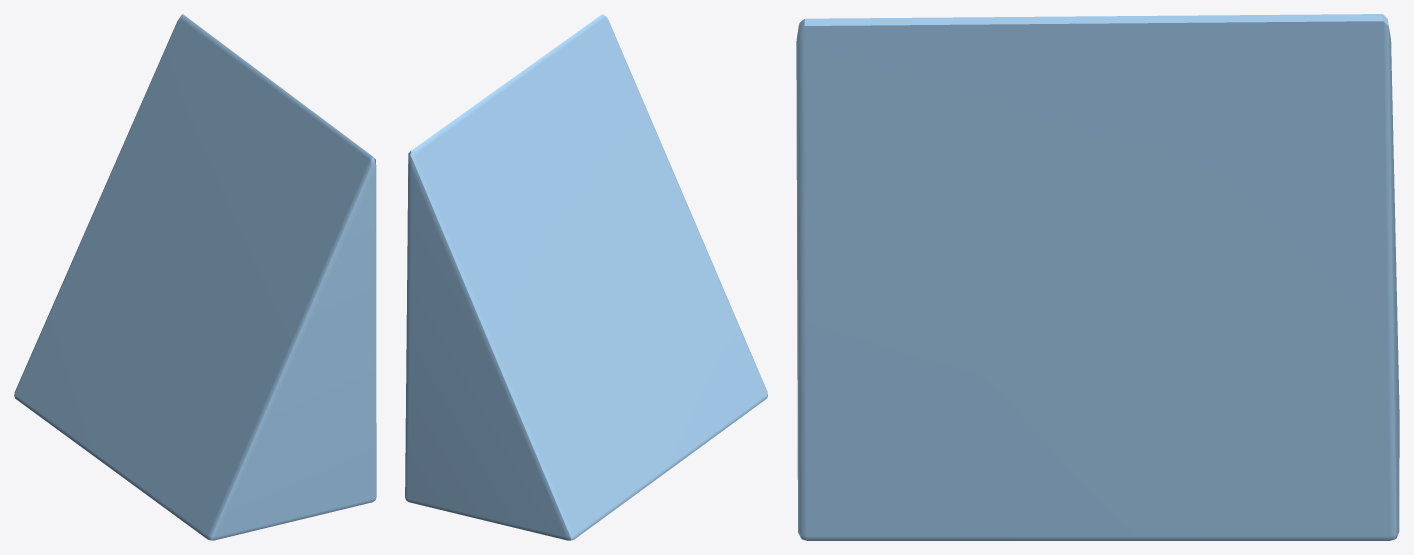
The model's file is Triangle2.fbx.
3 views of the same model, side by side, from view 1: azimuth 30°, elevation 25°; view 2: azimuth 150°, elevation 25°; view 3: azimuth 270°, elevation 25° (orthographic). The views are drawn at different scales.
Parts seen in each view (by area): view 1: Trangle2; view 2: Trangle2; view 3: Trangle2.
Boxes of the visible parts, left/top/right/bottom form: Trangle2: left=14, top=14, right=376, bottom=540; Trangle2: left=405, top=14, right=767, bottom=540; Trangle2: left=796, top=14, right=1399, bottom=540.
Bounding box in the file's own units: 23.6 × 46.65 × 48.29.
